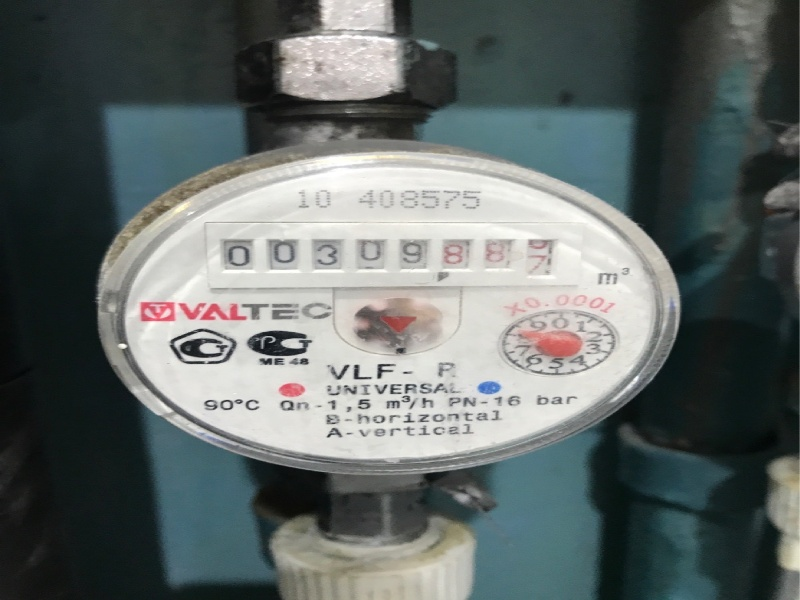meter: (215, 216, 559, 282)
